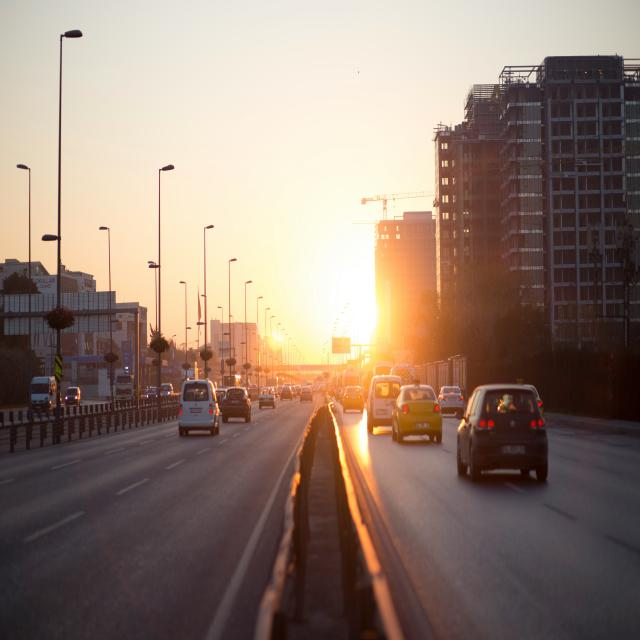Car: (456, 383, 548, 482), (392, 384, 442, 444), (221, 387, 251, 422), (438, 385, 464, 418), (342, 385, 364, 413), (258, 387, 276, 409), (300, 385, 313, 402)
